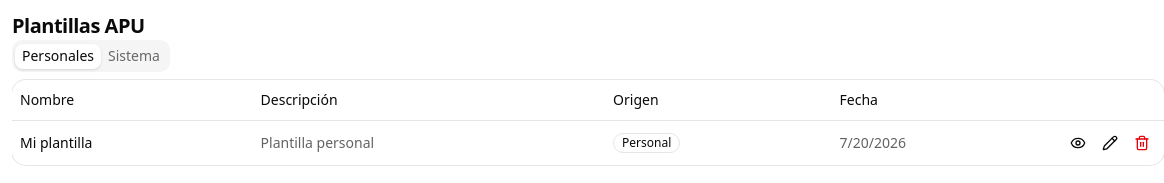
Test: MisPlantillasPage › la pestaña Sistema lista las del sistema sin renombrar ni eliminar
Click the tab "Sistema" at (134, 56), box [101,44,167,68]
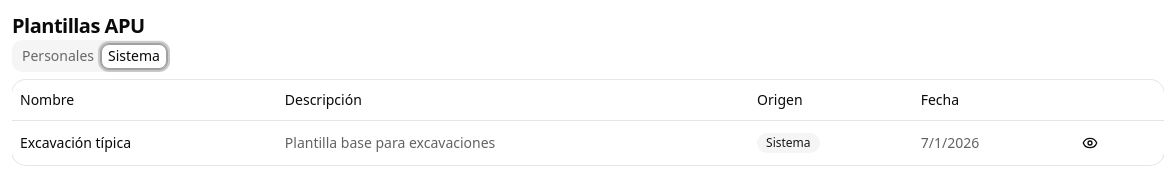
Expected: the button named "Ver plantilla" is shown, [1076,128,1104,156]
Result: the text "Sistema" is shown at [757,133,820,153]
